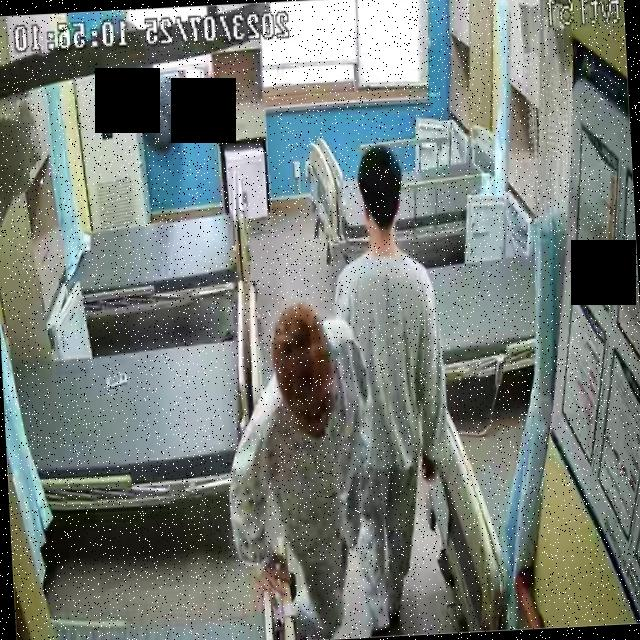bed: (7, 339, 270, 507), (368, 217, 562, 386), (303, 124, 501, 242), (62, 208, 252, 314)
patient: (324, 141, 460, 639), (218, 284, 380, 640)
